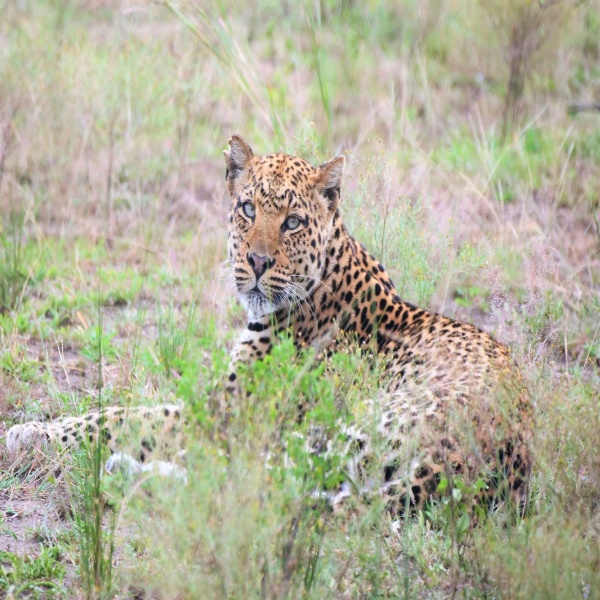Leopard: (61, 131, 541, 536)
